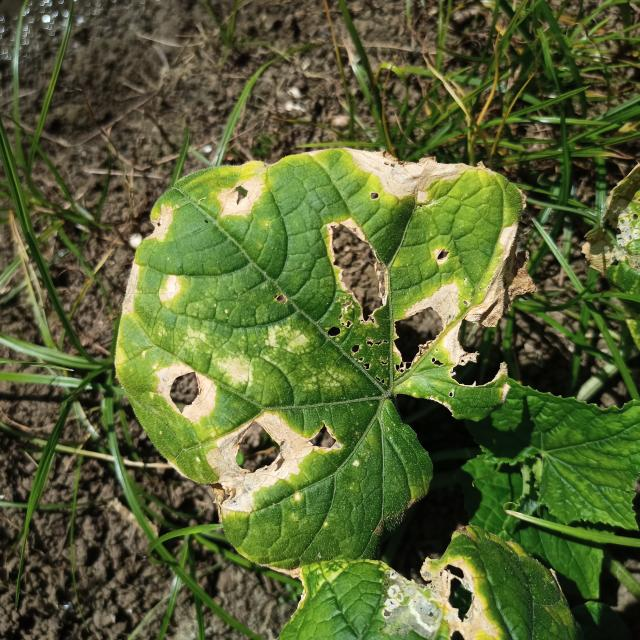disease_cucumber: (126, 148, 515, 526), (391, 558, 540, 640)
